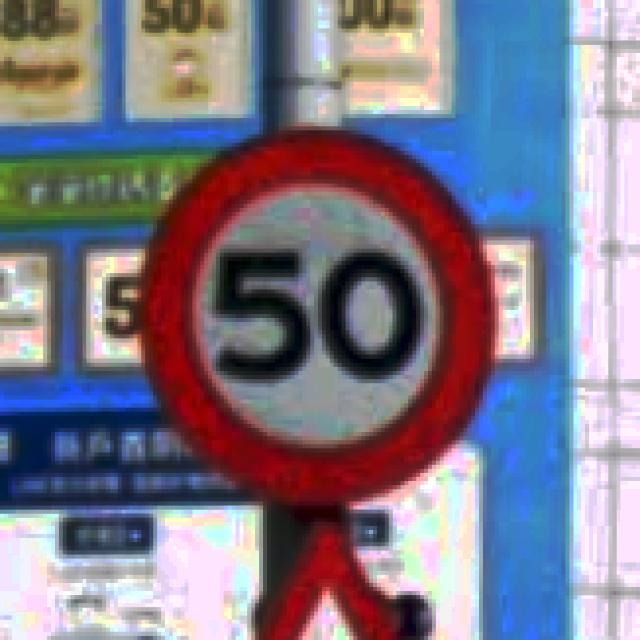max50: (133, 122, 494, 510)
